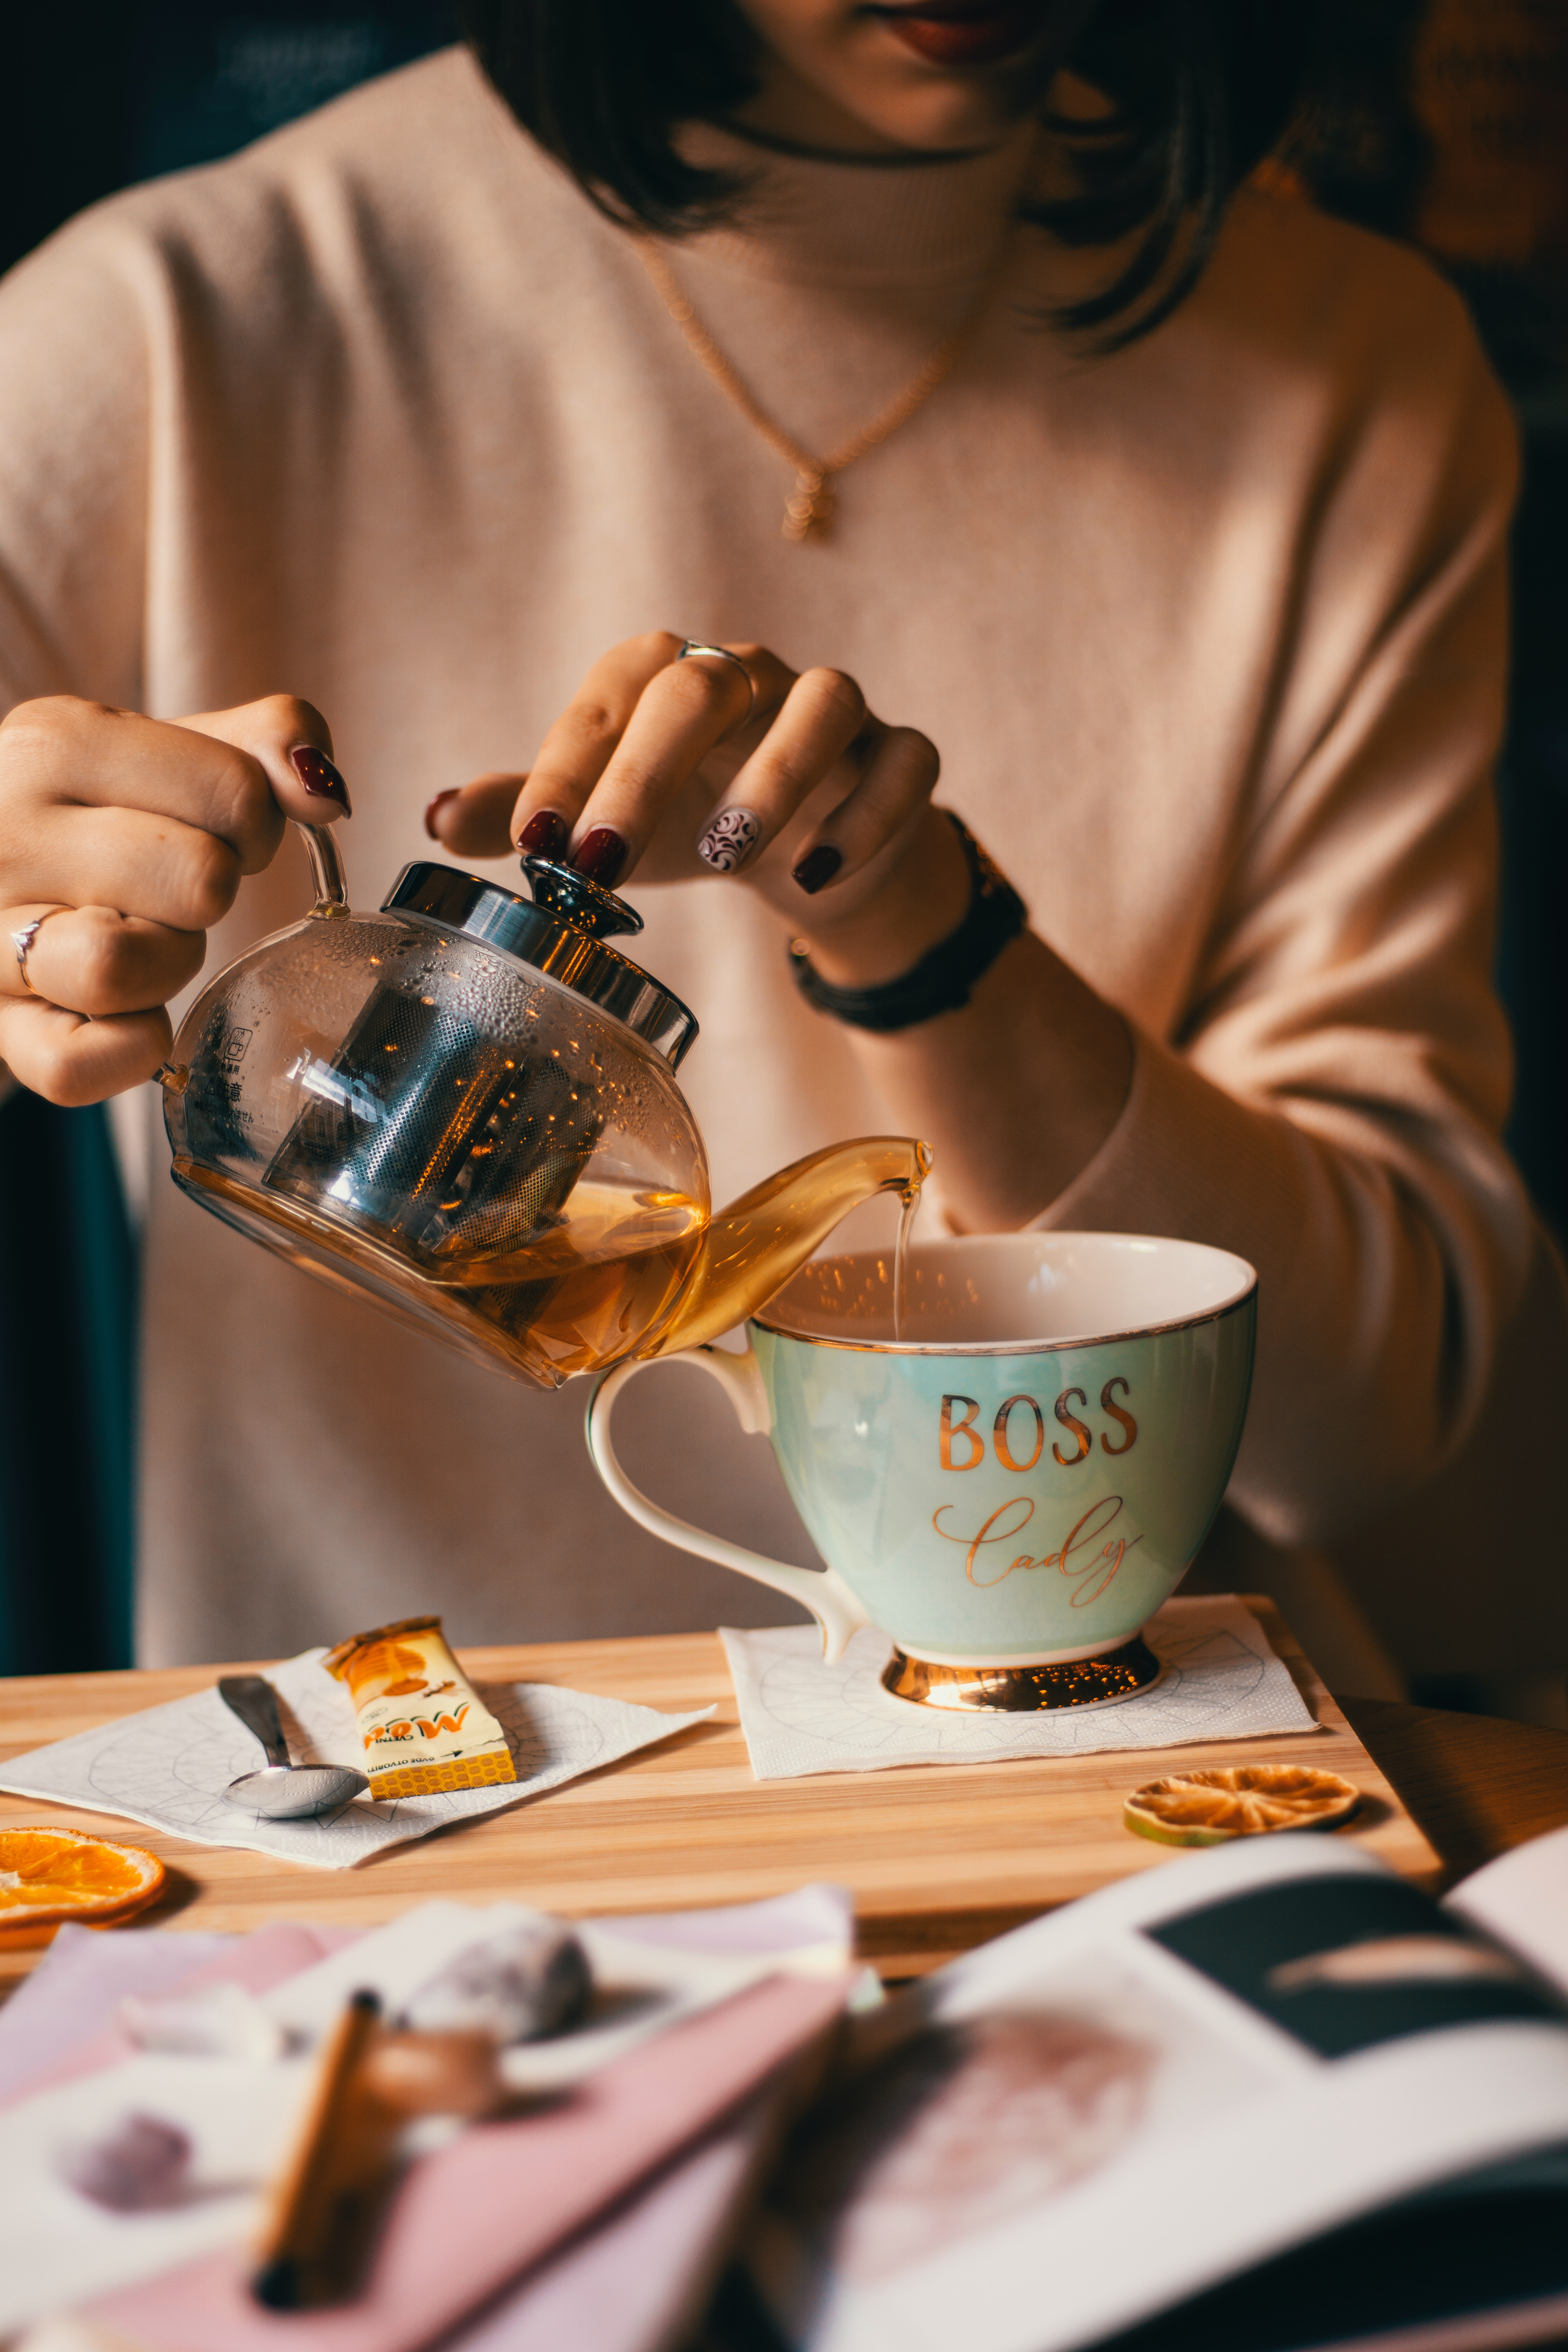cup: (583, 1235, 1263, 1698)
